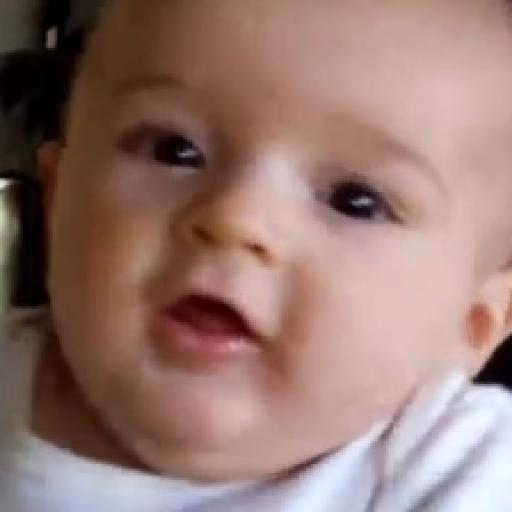Autism: (52, 0, 512, 463)
